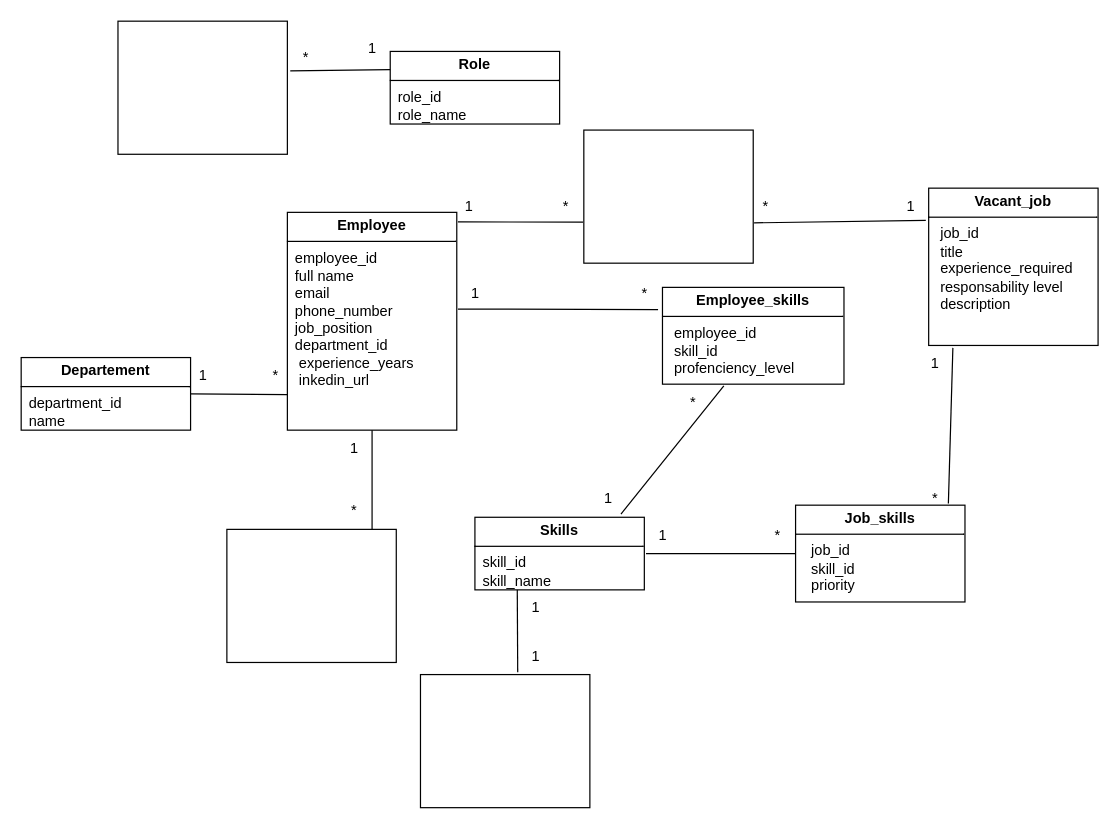
Image size: 1119x839. Some labels were removed from this diagram. Each missing label, with the box of its shape:
Employee_degree degree_id employee_id name level field: (226, 528, 396, 662)
Match match_id employee_id job_id compatibility_score last_updated: (583, 129, 753, 263)
Training_program training_id training_name provider duration skill_id: (419, 673, 590, 808)
User matricule full_name email password role id: (117, 20, 287, 154)
